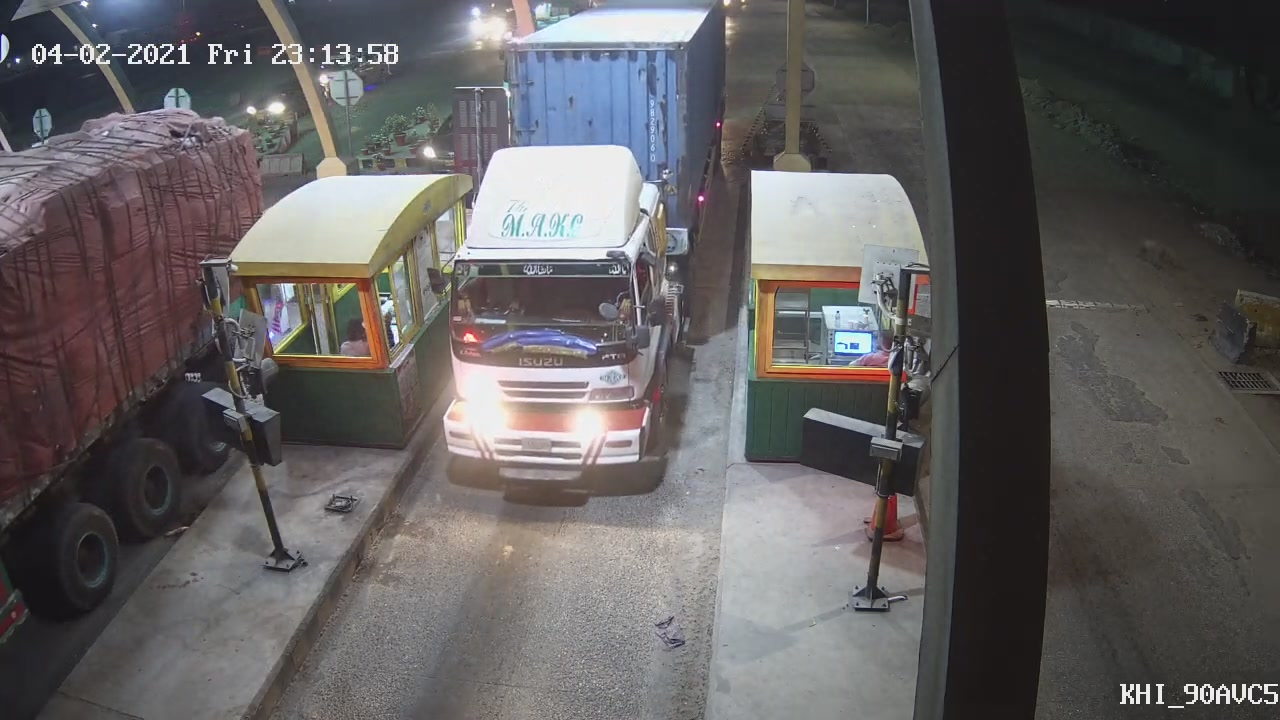F6: (415, 2, 730, 489)
